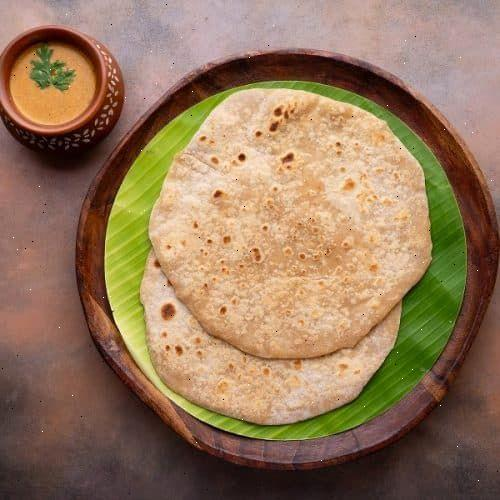roti phulka: (142, 85, 433, 427)
